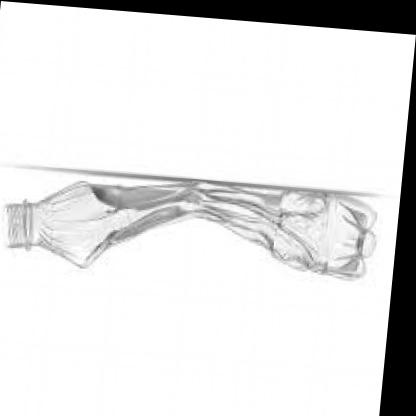trash: (5, 171, 376, 277)
